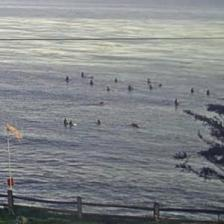surfer: (130, 122, 140, 128), (95, 102, 104, 106), (174, 98, 178, 107), (97, 120, 102, 125), (64, 118, 68, 124), (68, 120, 72, 126), (128, 84, 132, 90), (146, 78, 150, 84), (206, 90, 210, 96), (65, 76, 69, 81), (107, 86, 111, 91), (114, 78, 118, 83), (148, 85, 152, 90), (81, 72, 84, 78), (190, 88, 194, 92), (90, 80, 93, 85), (88, 76, 94, 78), (159, 83, 163, 86), (222, 96, 223, 102)
